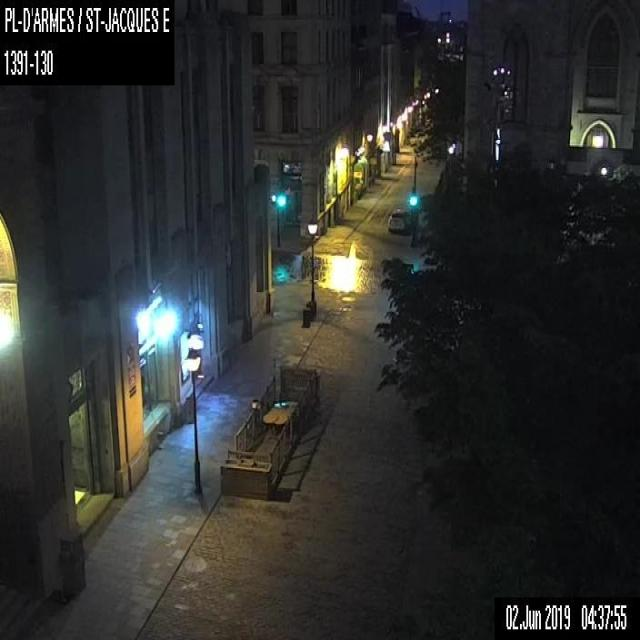vehicle: (387, 207, 411, 232)
